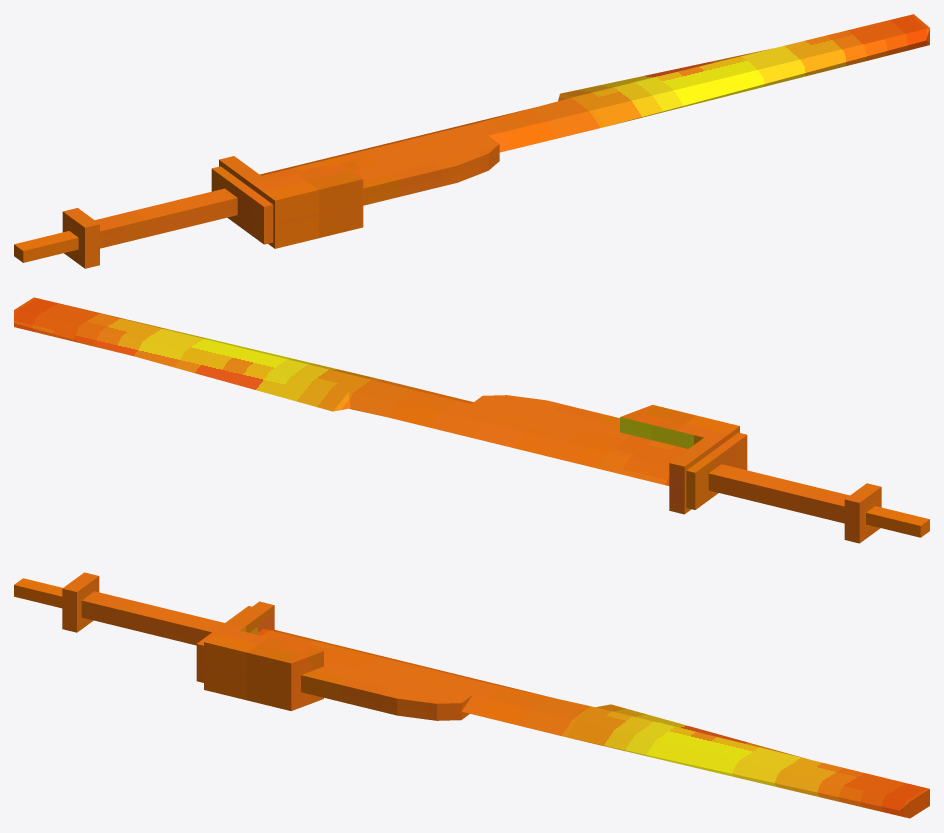
File: SwordMachineSword.fbx
3 views of the same model, one above another, from view 1: azimuth 30°, elevation 25°; view 2: azimuth 150°, elevation 25°; view 3: azimuth 330°, elevation 25° (orthographic).
Visible parts, largest first — view 1: SwordMachineSword; view 2: SwordMachineSword; view 3: SwordMachineSword.
Boxes of the visible parts, box(x1,y1,x2,y2) form: SwordMachineSword: box(14, 14, 929, 268); SwordMachineSword: box(14, 297, 929, 543); SwordMachineSword: box(14, 572, 929, 818).
Size of the model in its own units: 6.41 by 0.3257 by 0.7717.
